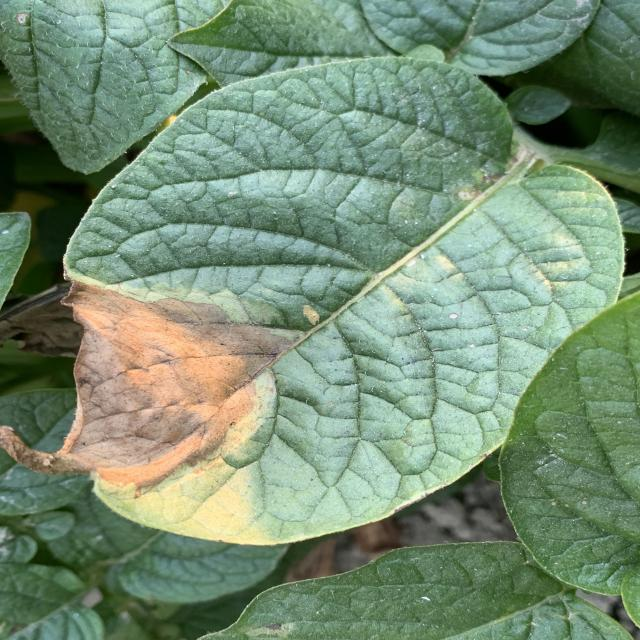lateblight: (3, 281, 298, 486)
